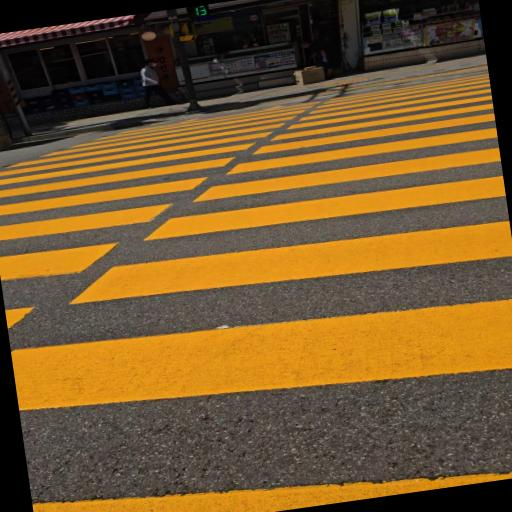yellow-crosswalk: (0, 69, 512, 512)
